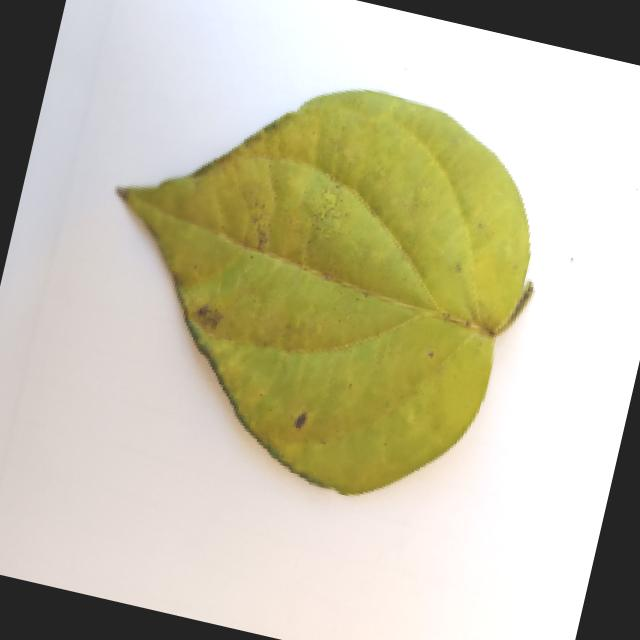slow-decline: (51, 33, 584, 532)
